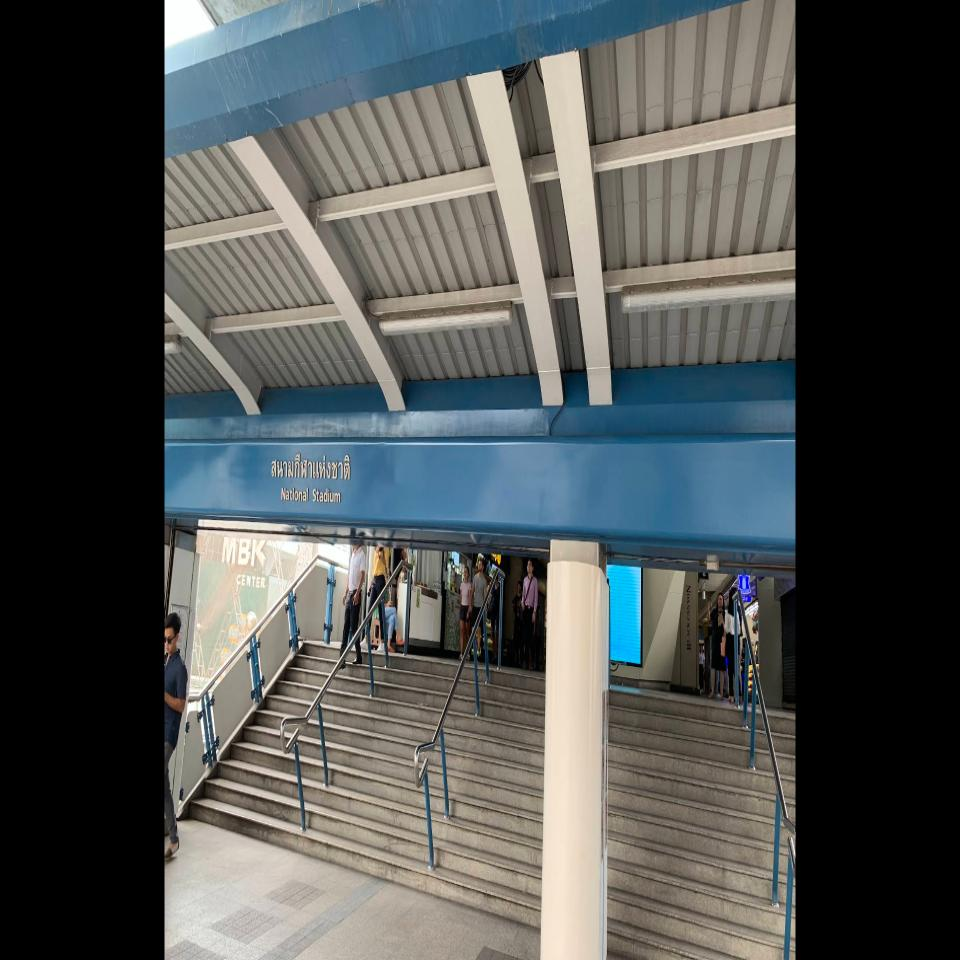signage: (271, 453, 351, 504)
